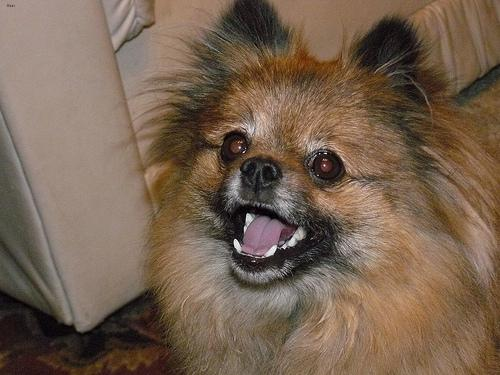dog-pomeranian: (185, 0, 417, 283)
